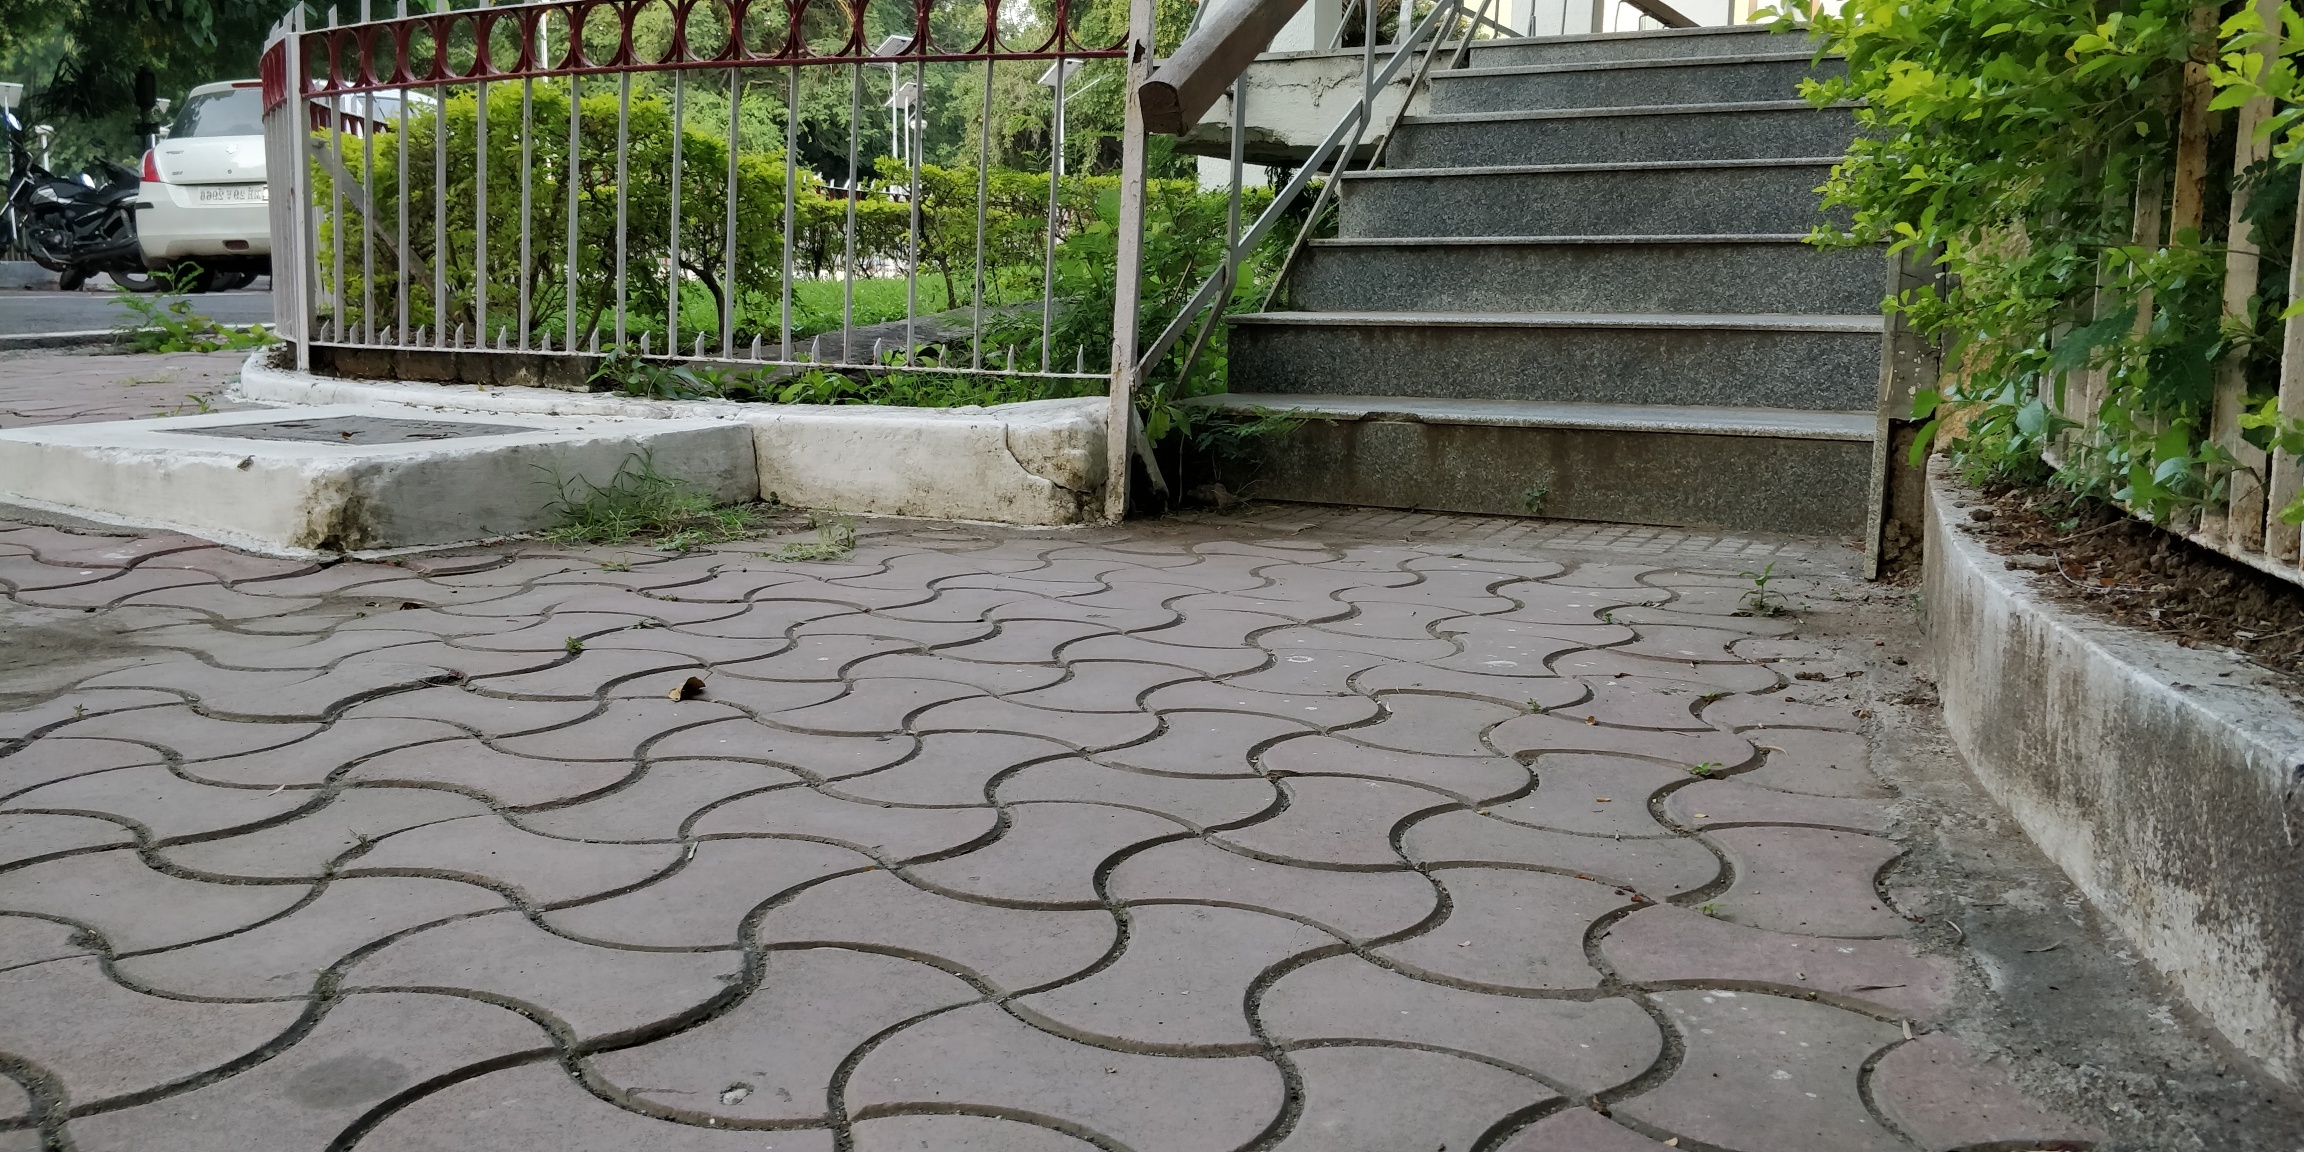stairs_up: (1140, 7, 1904, 577)
